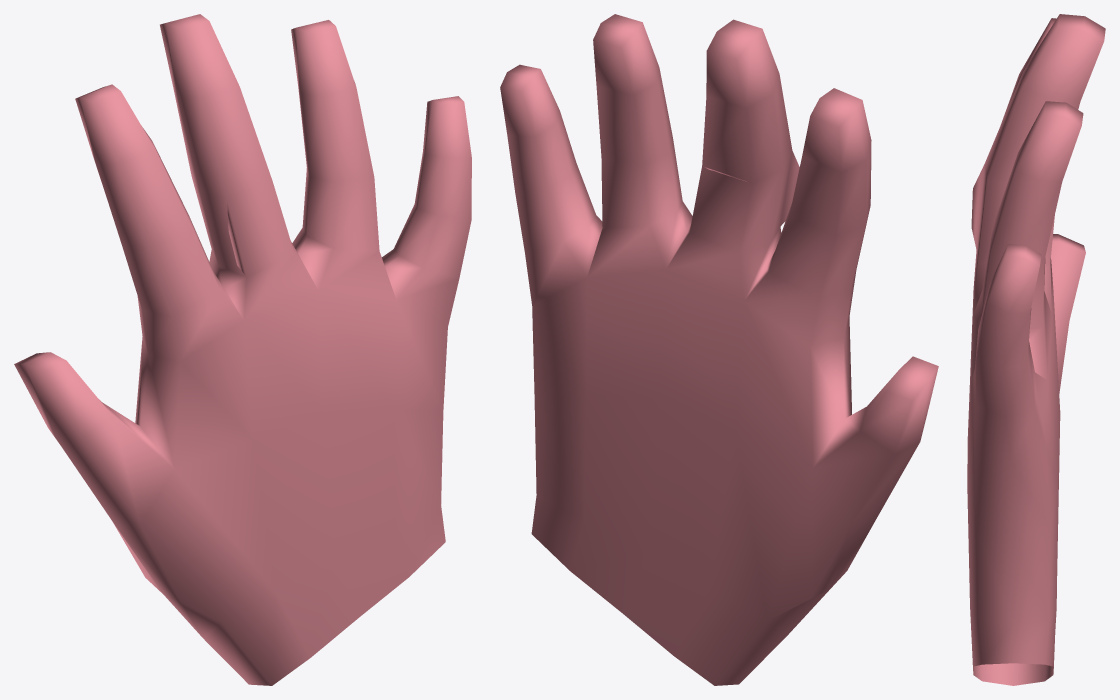
File: tema3.fbx
3 views of the same model, side by side, from view 1: azimuth 30°, elevation 25°; view 2: azimuth 150°, elevation 25°; view 3: azimuth 270°, elevation 25° (orthographic). The views are drawn at different scales.
Visible parts, largest first — view 1: Cube; view 2: Cube; view 3: Cube.
Boxes of the visible parts, box(x1,y1,x2,y2) form: Cube: box(14, 14, 471, 685); Cube: box(500, 14, 938, 685); Cube: box(967, 14, 1105, 685).
Size of the model in its own units: 310 by 459 by 88.49.
